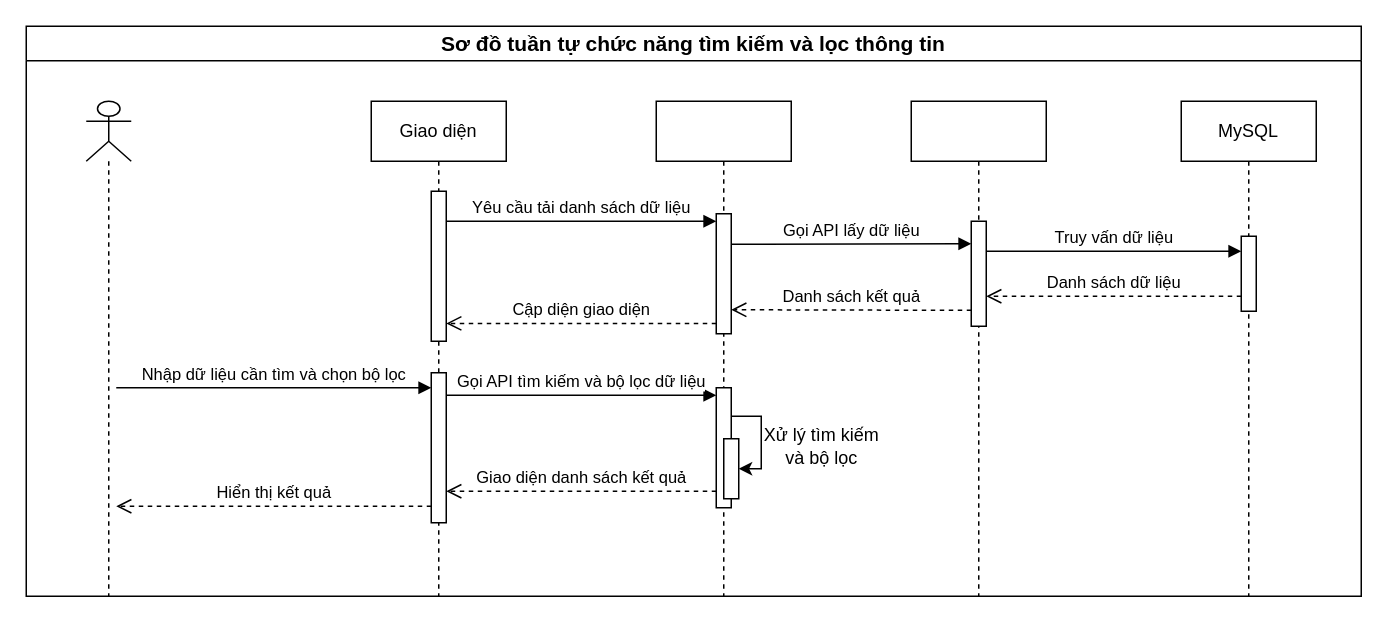
This 1388x623 diagram has some shape labels left out. Each missing label, with the centre of its shape:
"Web API" belongs at point (978, 348).
"Web Client" belongs at point (723, 348).
